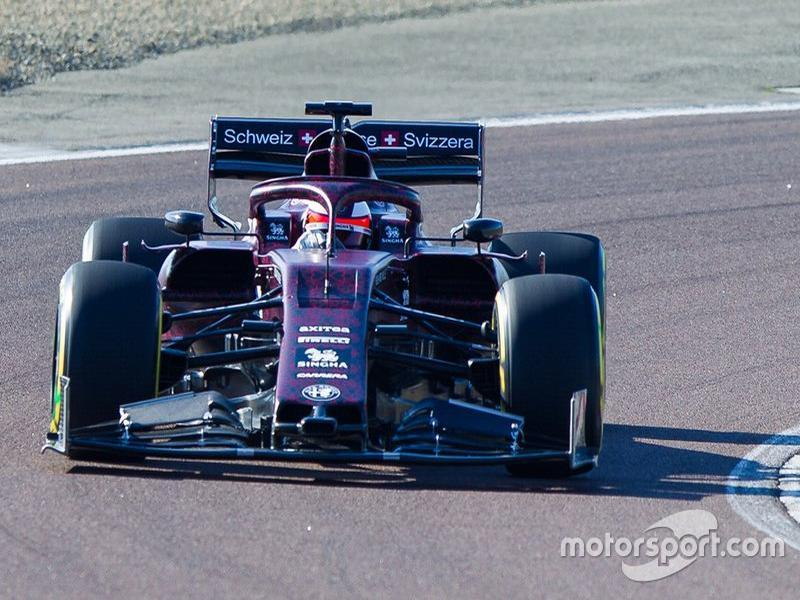f1: (61, 85, 705, 516)
